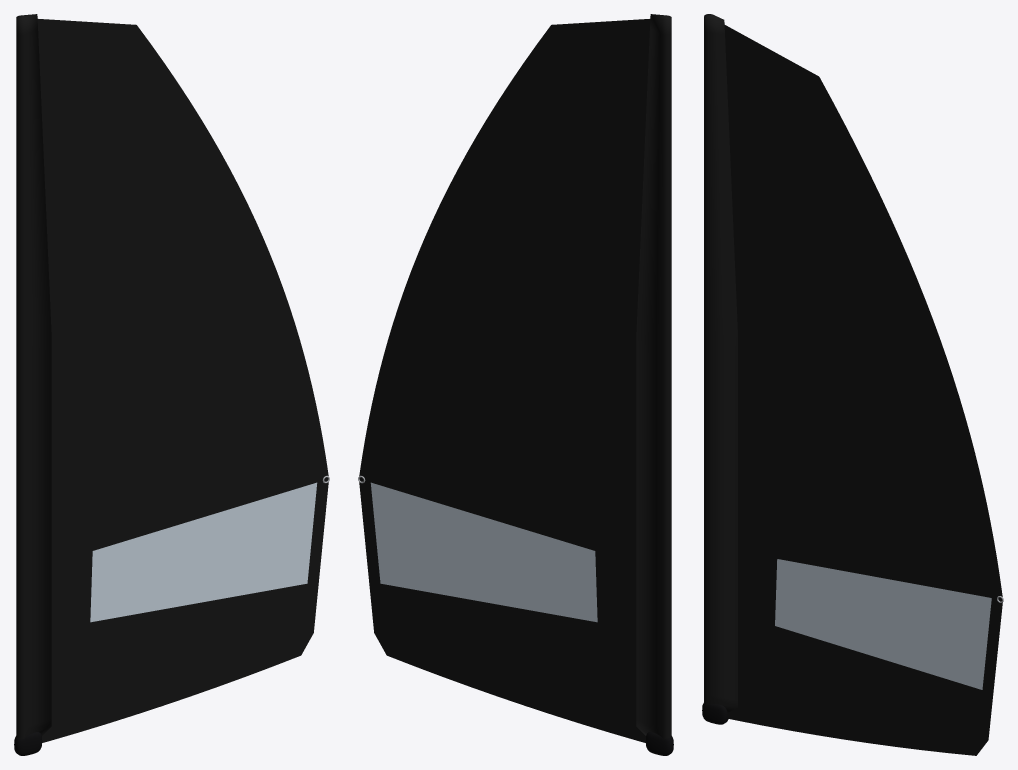
Rendered from nielstrots_slalom_8_2.glb.
The picture shows the model from 3 angles, left to right: view 1: azimuth 30°, elevation 25°; view 2: azimuth 150°, elevation 25°; view 3: azimuth 330°, elevation 25°; orthographic projection. The views are drawn at different scales.
Parts seen in each view (by area): view 1: SailCloth, TackFairing; view 2: SailCloth; view 3: SailCloth.
Part boxes in pixels (bbox=[...]): SailCloth: bbox=[16, 14, 328, 742]; TackFairing: bbox=[14, 732, 42, 755]; SailCloth: bbox=[359, 14, 671, 742]; SailCloth: bbox=[704, 14, 1002, 755].
Size of the model in its own units: 2.21 by 4.97 by 0.08.
